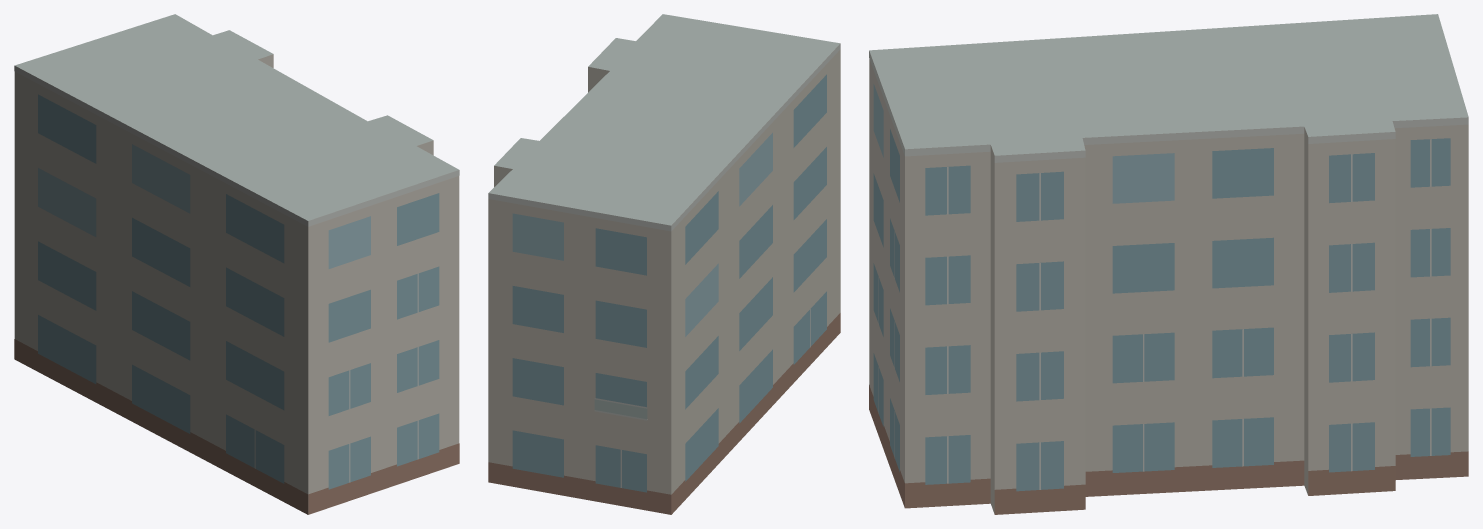
Rendered from survey-upis-32699013.glb.
3 views of the same model, side by side, from view 1: azimuth 30°, elevation 25°; view 2: azimuth 150°, elevation 25°; view 3: azimuth 270°, elevation 25° (orthographic). The views are drawn at different scales.
Parts seen in each view (by area): view 1: survey-upis-32699013.tmp; view 2: survey-upis-32699013.tmp; view 3: survey-upis-32699013.tmp.
Boxes of the visible parts, x1,y1,x2,y2 form: survey-upis-32699013.tmp: (14,14,459,514); survey-upis-32699013.tmp: (488,14,840,514); survey-upis-32699013.tmp: (869,14,1468,514).
Bounding box in the file's own units: 10.34 × 12.2 × 18.47.
